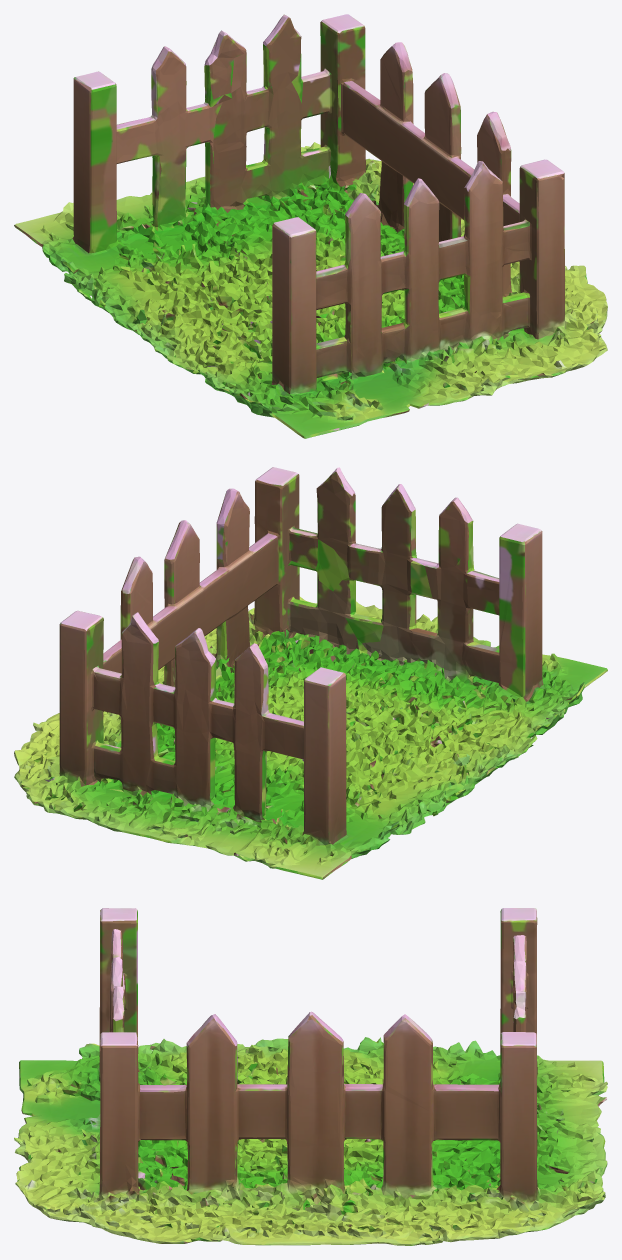
Rendered from wooden_fence_section.glb.
3 renders of one model, top to bottom at view 1: azimuth 30°, elevation 25°; view 2: azimuth 150°, elevation 25°; view 3: azimuth 270°, elevation 25°, orthographic. The views are drawn at different scales.
Visible parts, largest first — view 1: tmp2e4cokbj.ply; view 2: tmp2e4cokbj.ply; view 3: tmp2e4cokbj.ply.
Part boxes in pixels (x1,y1,x2,y2): tmp2e4cokbj.ply: (14,14,607,438); tmp2e4cokbj.ply: (14,467,607,879); tmp2e4cokbj.ply: (14,908,607,1245).
Bounding box in the file's own units: 1.58 × 0.7125 × 1.99.
Materials: 1 (1 with a texture image).
